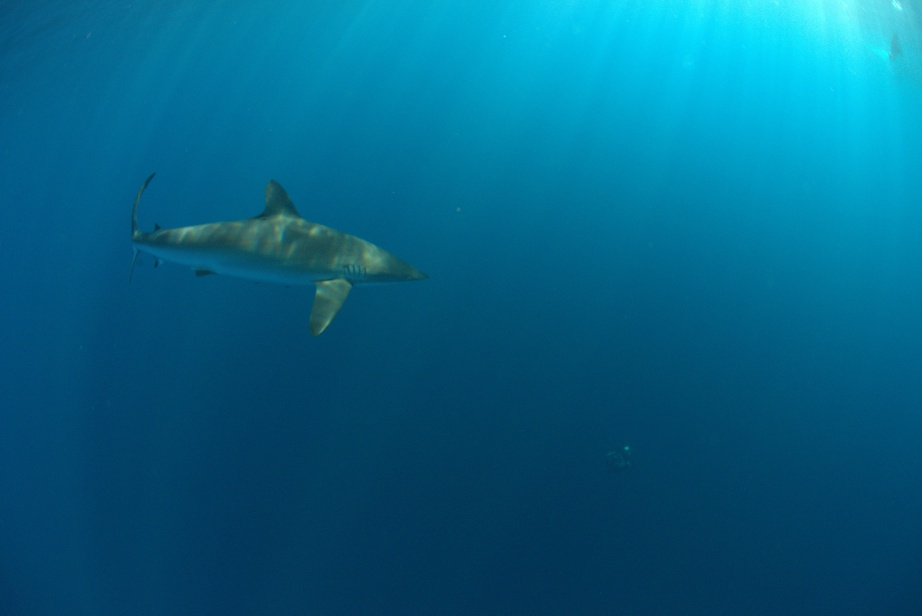Sedoso: (92, 164, 440, 344)
